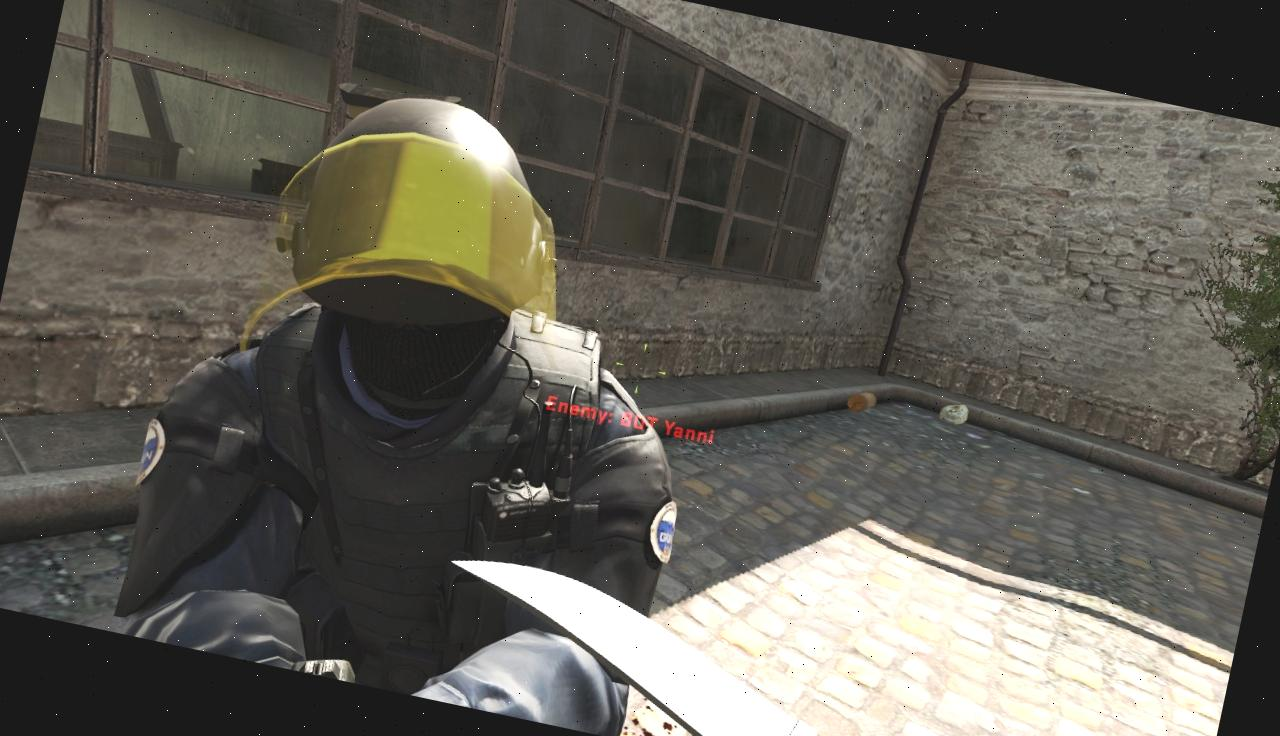ct: (111, 56, 746, 736)
cthead: (268, 80, 560, 402)
